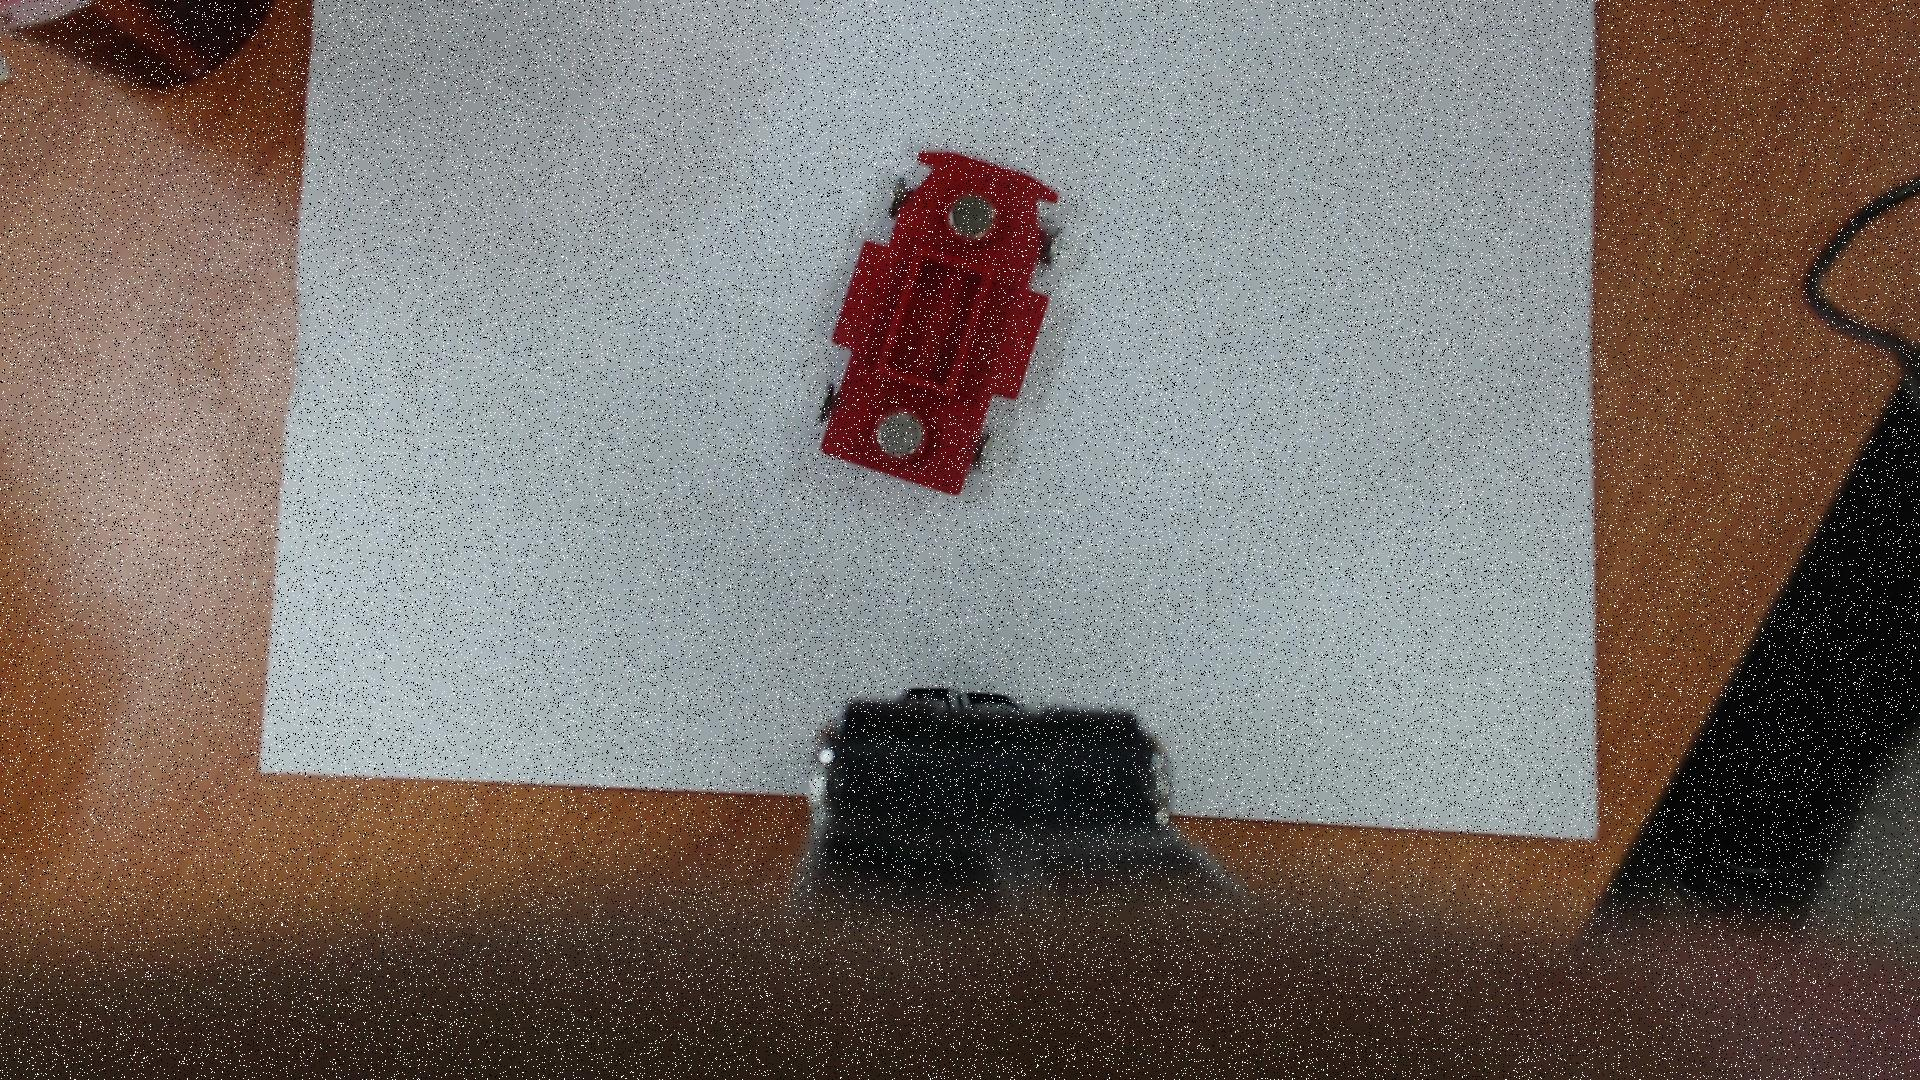lower_ok: (868, 241, 1005, 413)
